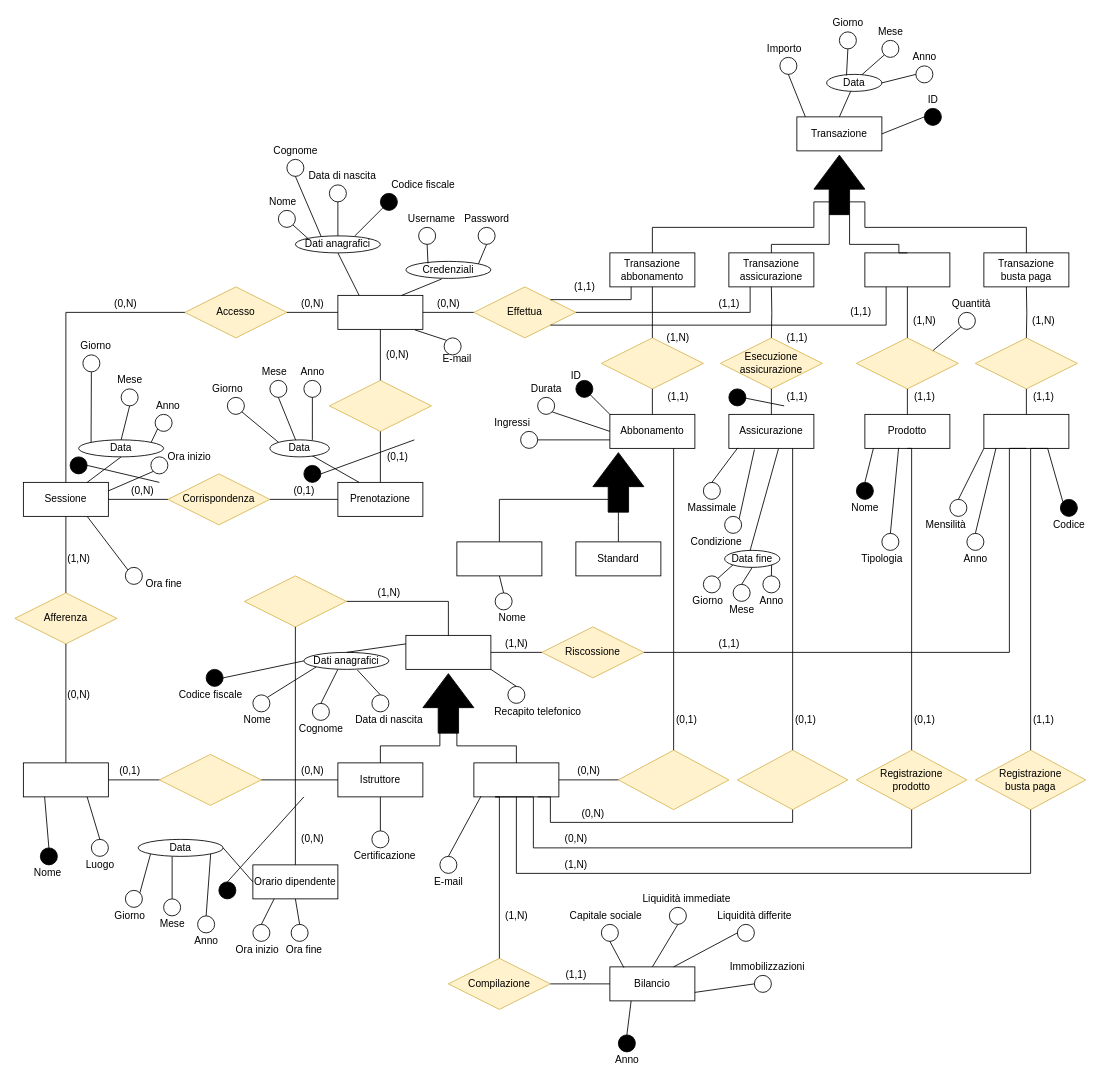
Some shapes in this 1105 by 1083 pixel diagram are drawn without their labels. The box of each missing label's shape, as (x1, y1, x2, y2) in pixels:
Busta paga: (983, 414, 1069, 448)
Corso: (23, 762, 108, 797)
Dipendente: (405, 635, 491, 669)
Esecuzione abbonamento: (601, 337, 703, 389)
Esecuzione busta paga: (975, 337, 1077, 389)
Esecuzione prodotto: (856, 337, 958, 389)
Fissaggio: (329, 380, 431, 431)
Insegnamento: (159, 754, 261, 805)
Iscritto: (337, 295, 423, 329)
Registrazione abbonamento: (618, 749, 729, 810)
Registrazione assicurazione: (737, 749, 848, 810)
Segreteria: (473, 762, 559, 797)
Specializzato: (456, 541, 542, 576)
Svolgimento: (244, 575, 346, 627)
Transazione acquisto: (864, 252, 950, 287)
